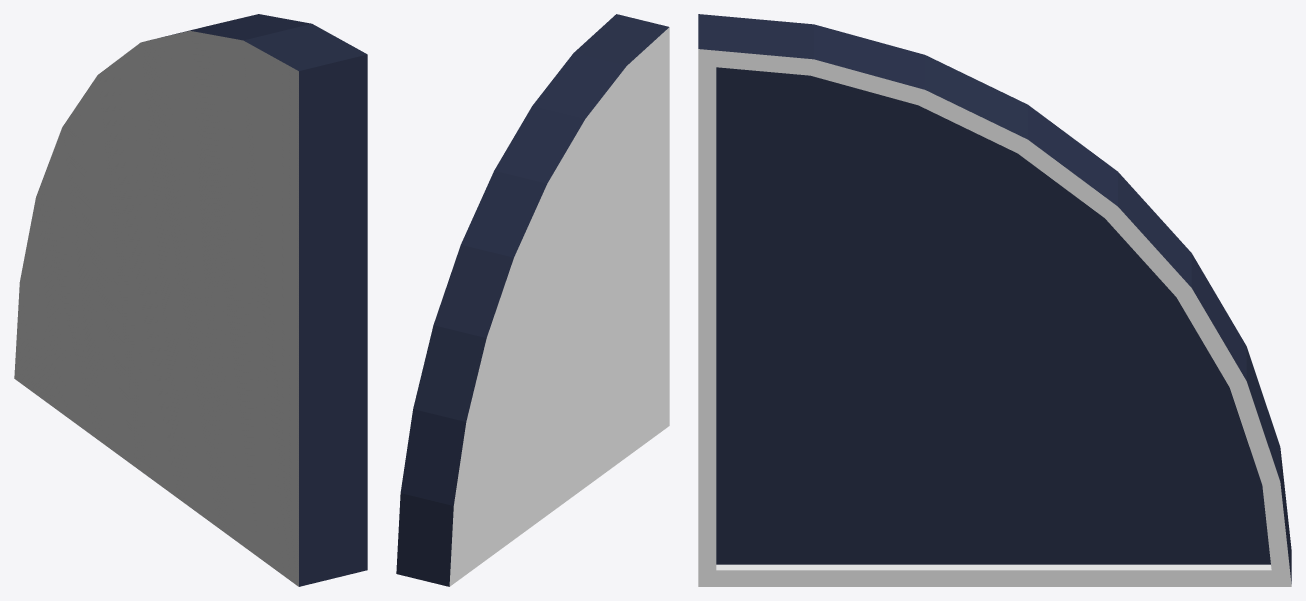
File: door.fbx
3 renders of one model, left to right at view 1: azimuth 30°, elevation 25°; view 2: azimuth 150°, elevation 25°; view 3: azimuth 270°, elevation 25°, orthographic. The views are drawn at different scales.
Visible parts, largest first — view 1: Cylinder; view 2: Cylinder; view 3: Cylinder.
Boxes of the visible parts, bbox=[...] form: Cylinder: bbox=[14, 14, 367, 586]; Cylinder: bbox=[396, 14, 669, 586]; Cylinder: bbox=[698, 14, 1291, 586].
Bounding box in the file's own units: 0.2792 × 2 × 2.
